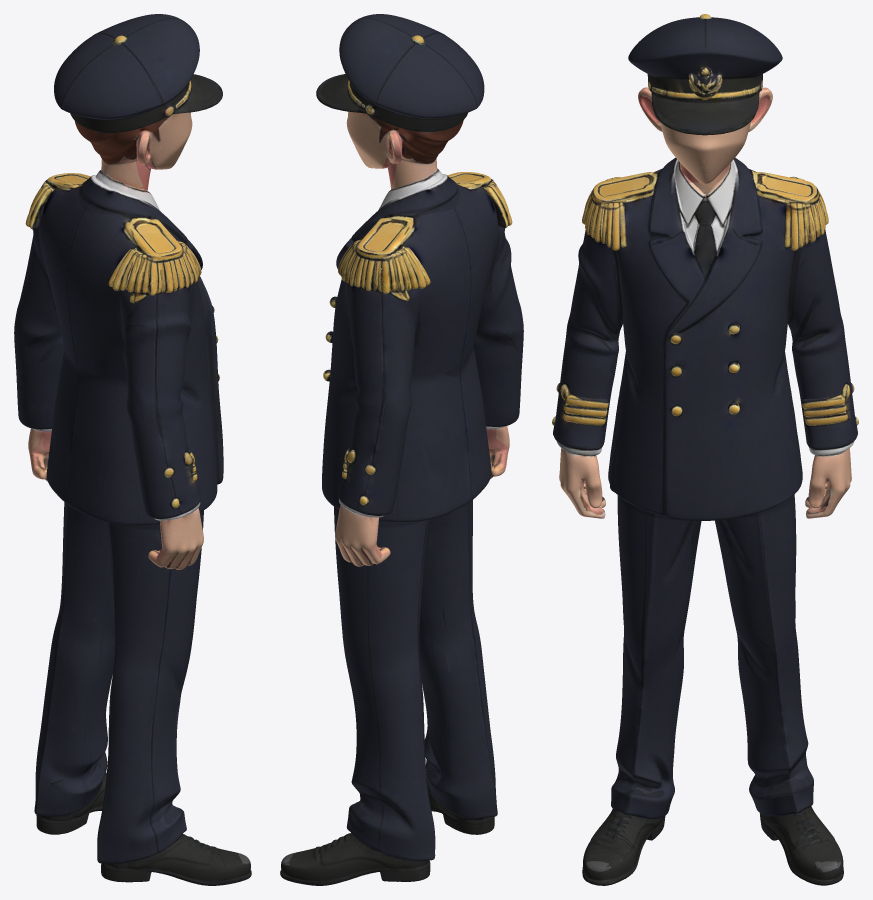
The model's file is naval+officer+3d+model.glb.
3 views of the same model, side by side, from view 1: azimuth 30°, elevation 25°; view 2: azimuth 150°, elevation 25°; view 3: azimuth 270°, elevation 25° (orthographic). The views are drawn at different scales.
Visible parts, largest first — view 1: tripo_node_1a16c499-2465-494f-a75e-9a2ebdbd00be; view 2: tripo_node_1a16c499-2465-494f-a75e-9a2ebdbd00be; view 3: tripo_node_1a16c499-2465-494f-a75e-9a2ebdbd00be.
Part boxes in pixels (x1,y1,x2,y2): tripo_node_1a16c499-2465-494f-a75e-9a2ebdbd00be: (14, 14, 251, 885); tripo_node_1a16c499-2465-494f-a75e-9a2ebdbd00be: (280, 14, 523, 885); tripo_node_1a16c499-2465-494f-a75e-9a2ebdbd00be: (552, 14, 858, 885).
Size of the model in its own units: 0.1978 by 1 by 0.3308.
1 material, 1 textured.
